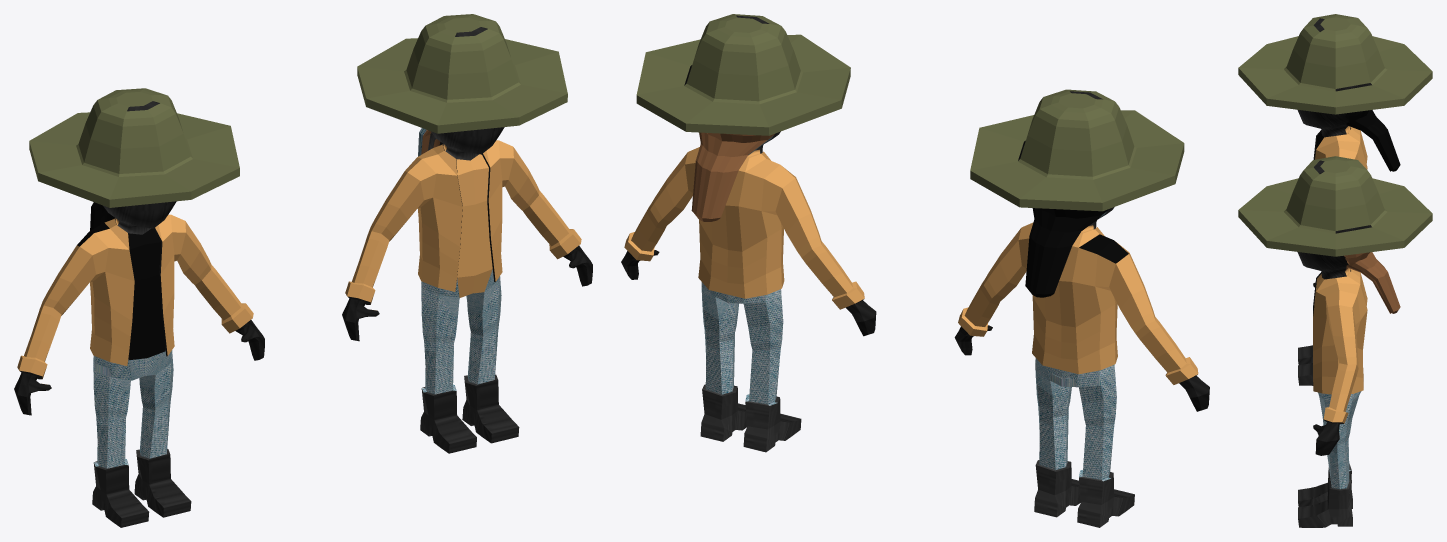
Rendered from g farmer.fbx.
3 renders of one model, left to right at view 1: azimuth 30°, elevation 25°; view 2: azimuth 150°, elevation 25°; view 3: azimuth 270°, elevation 25°, orthographic. The views are drawn at different scales.
Visible parts, largest first — view 1: Character.001, Character; view 2: Character.001, Character; view 3: Character, Character.001.
Part boxes in pixels (bbox=[...]): Character.001: bbox=[14, 88, 264, 527]; Character: bbox=[342, 14, 592, 453]; Character.001: bbox=[954, 89, 1209, 527]; Character: bbox=[621, 14, 876, 452]; Character: bbox=[1238, 156, 1432, 527]; Character.001: bbox=[1238, 14, 1432, 385].
Bounding box in the file's own units: 1043 × 714 × 358.
